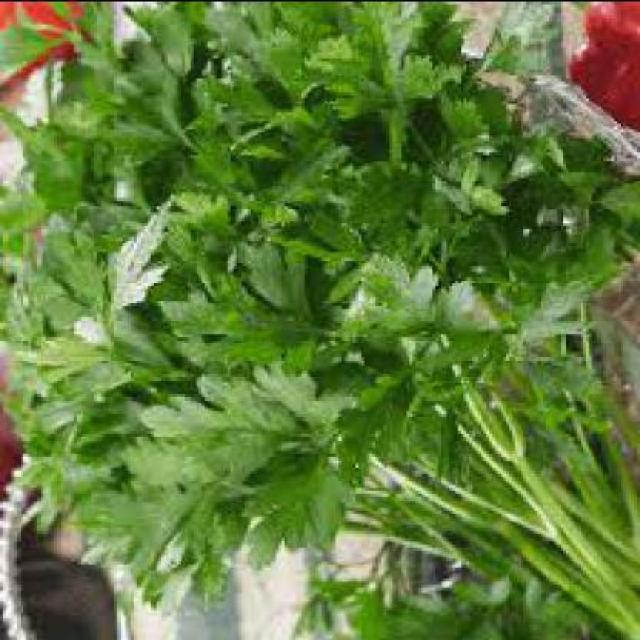BIODEGRADABLE: (0, 1, 638, 636), (130, 396, 293, 492), (160, 273, 298, 367), (66, 480, 165, 569), (230, 238, 316, 328), (350, 253, 432, 339)
